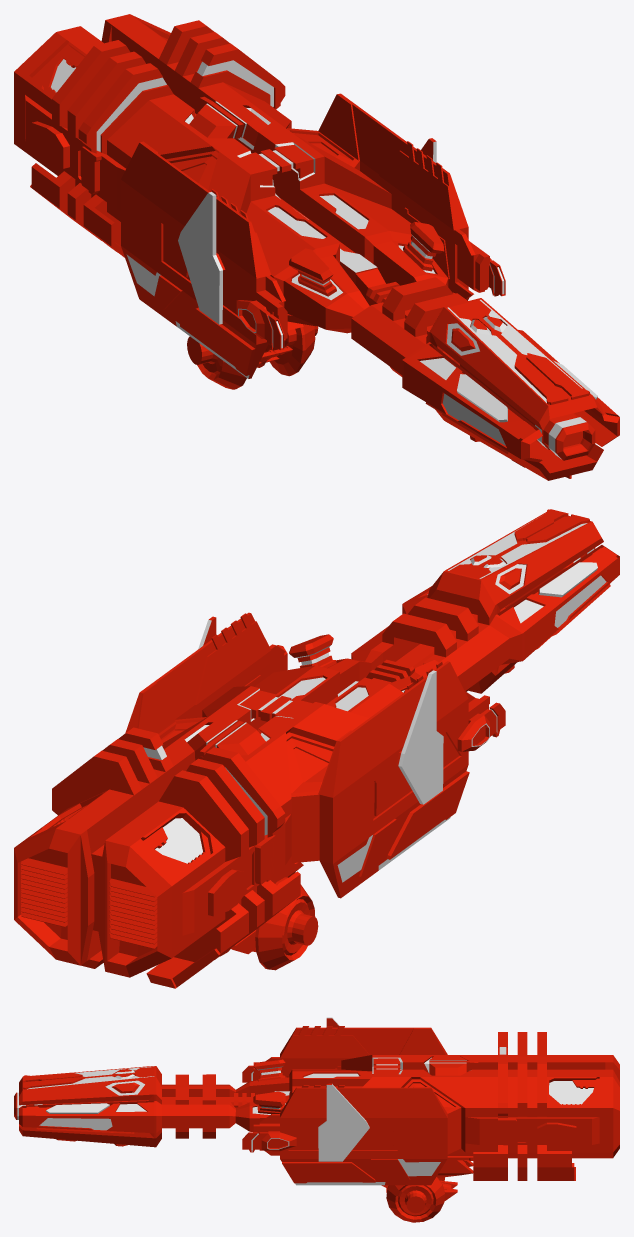
The model's file is ddd.fbx.
The picture shows the model from 3 angles, top to bottom: view 1: azimuth 30°, elevation 25°; view 2: azimuth 150°, elevation 25°; view 3: azimuth 270°, elevation 25°; orthographic projection. The views are drawn at different scales.
Parts seen in each view (by area): view 1: SC TIBLIS Pulse Cannon; view 2: SC TIBLIS Pulse Cannon, SC ACU Right, SC ACU left; view 3: SC TIBLIS Pulse Cannon.
Boxes of the visible parts, <box> form: SC TIBLIS Pulse Cannon: <box>14,14,619,480</box>; SC TIBLIS Pulse Cannon: <box>14,509,619,988</box>; SC ACU Right: <box>21,848,67,927</box>; SC ACU left: <box>109,864,157,948</box>; SC TIBLIS Pulse Cannon: <box>14,1017,619,1222</box>.
Bounding box in the file's own units: 633 × 694 × 2298.
